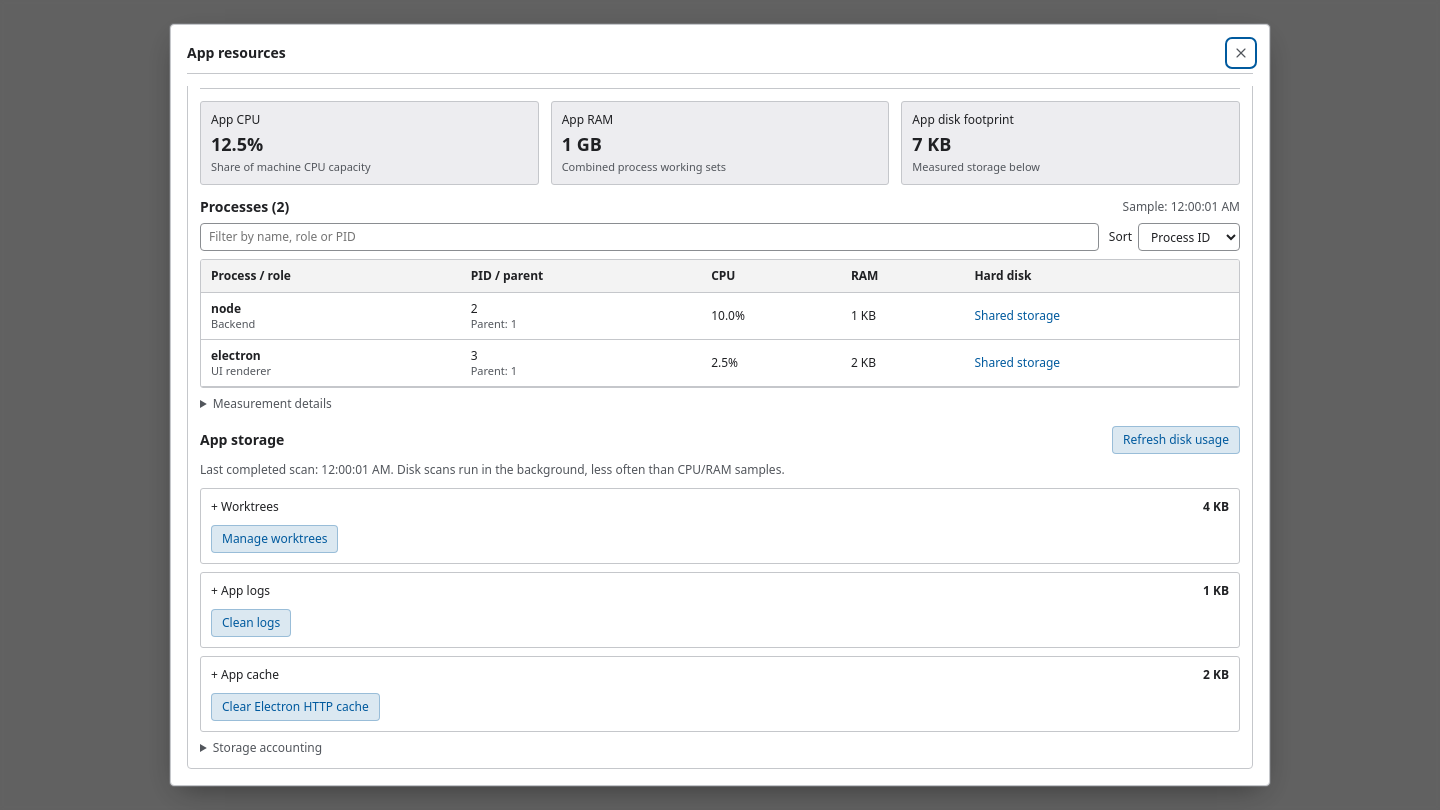
Test: app resource panel › uses the safe Electron HTTP cache API only after confirmation and surfaces failures
The image size is (1440, 810).
(page scrolled)
Click the button "Clear Electron HTTP cache". click: (295,707)
box: [211, 693, 380, 721]
(page scrolled)
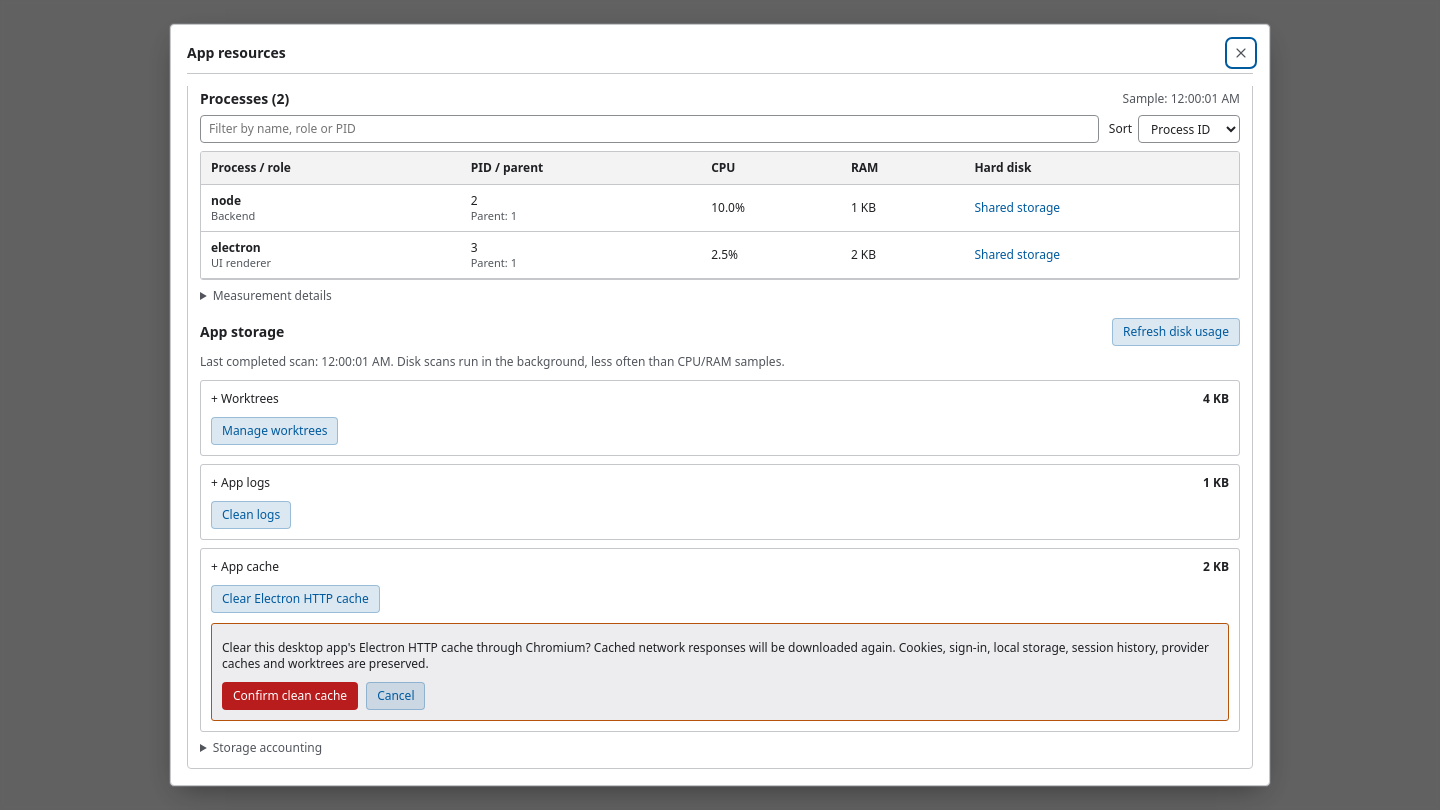
Expected: the element named "Confirm cache cleanup" shows "Cookies, sign-in", [222, 639, 1209, 672]
Click the button "Confirm clean cache". click: (290,696)
box: [222, 682, 358, 710]
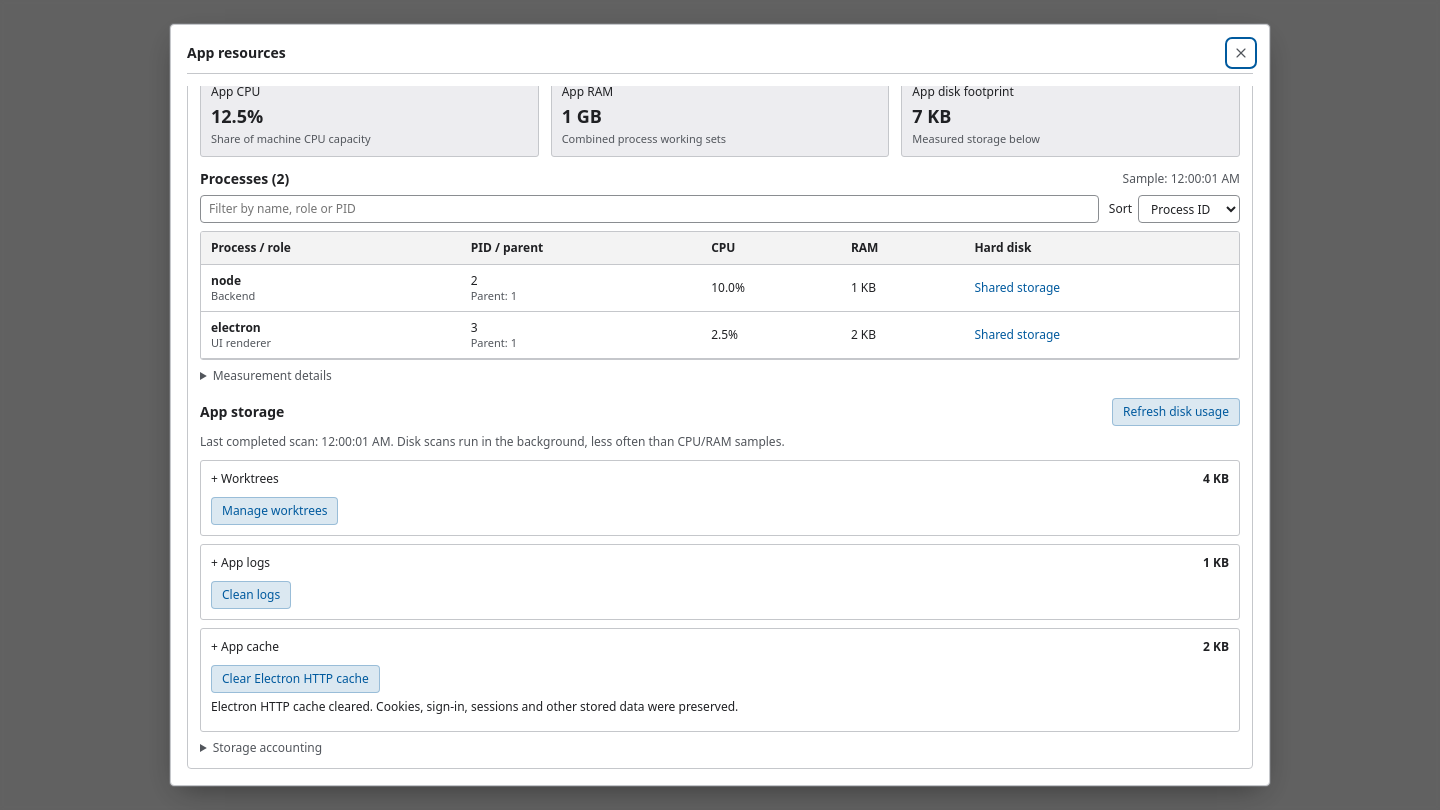
Expected: the text "Electron HTTP cache cleared" is shown, [211, 698, 738, 715]
Click the button "Clear Electron HTTP cache". click: (295,679)
box: [211, 665, 380, 693]
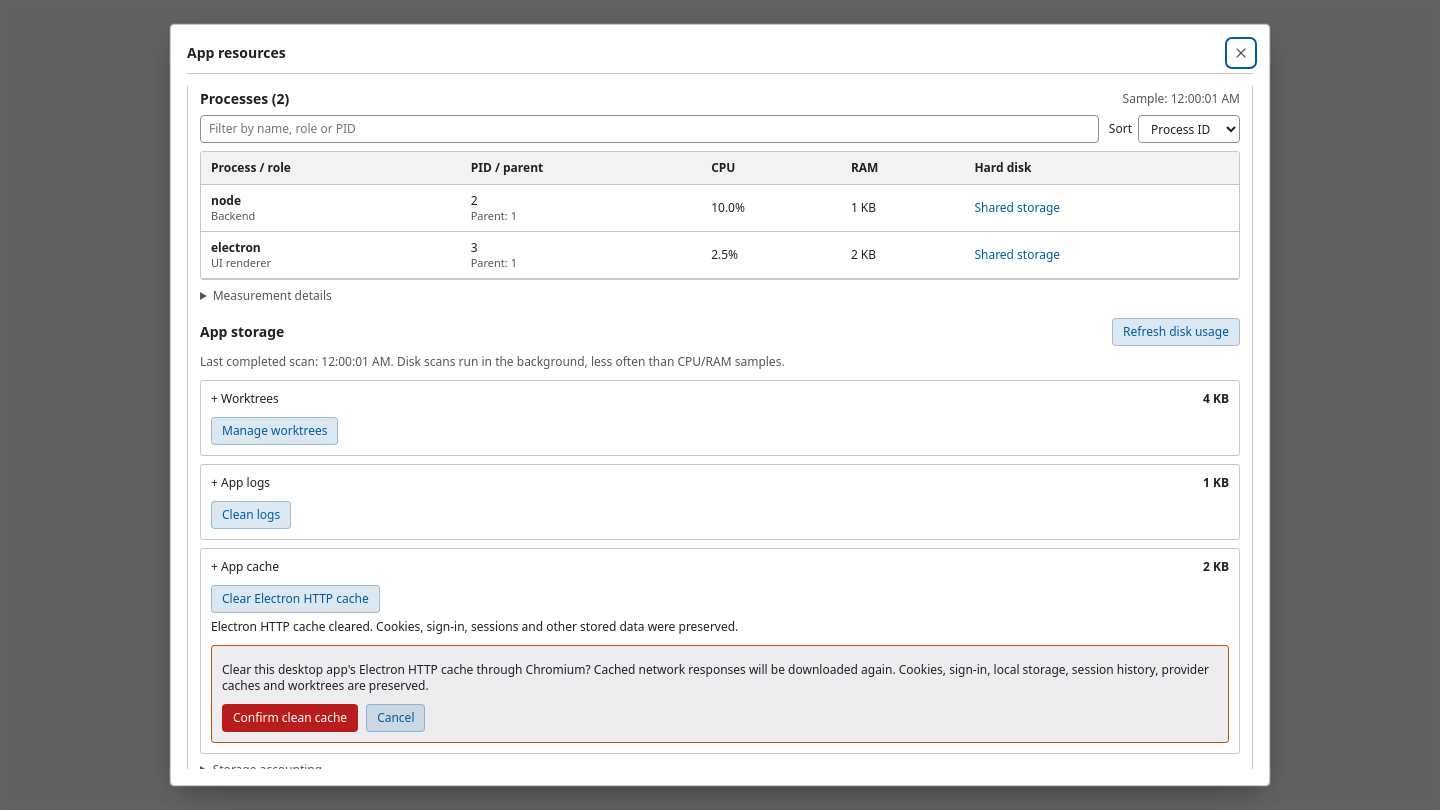
Click the button "Confirm clean cache". click: (290,718)
box: [222, 704, 358, 732]
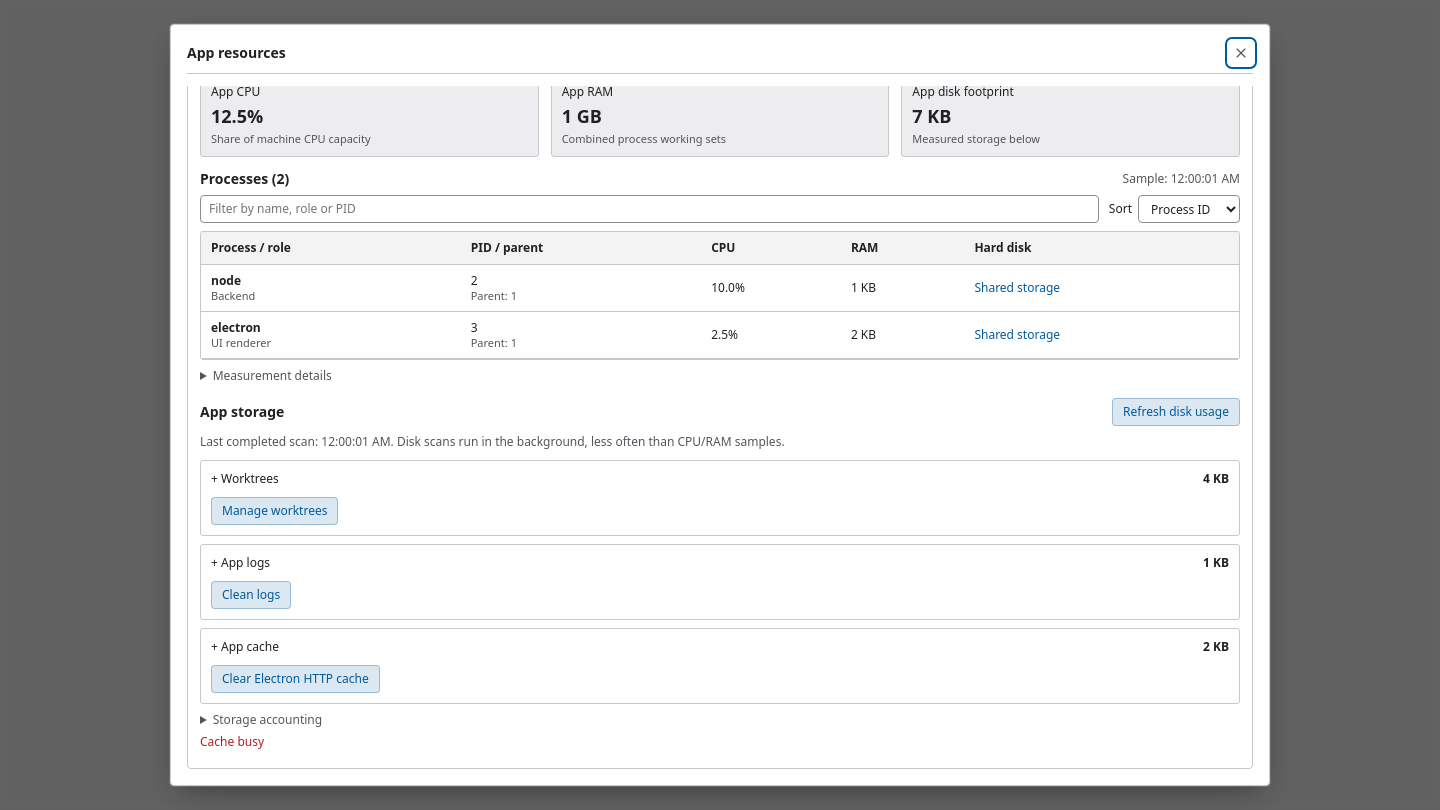
Expected: the text "Cache busy" is shown, [200, 733, 264, 750]
